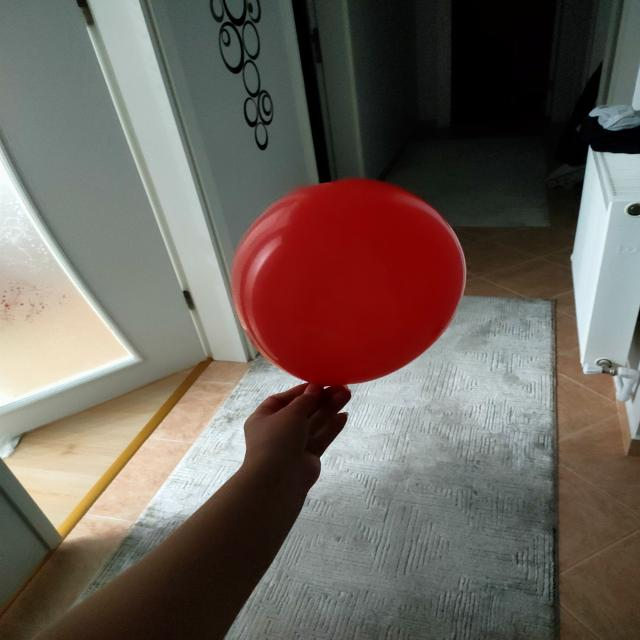red: (235, 179, 468, 388)
